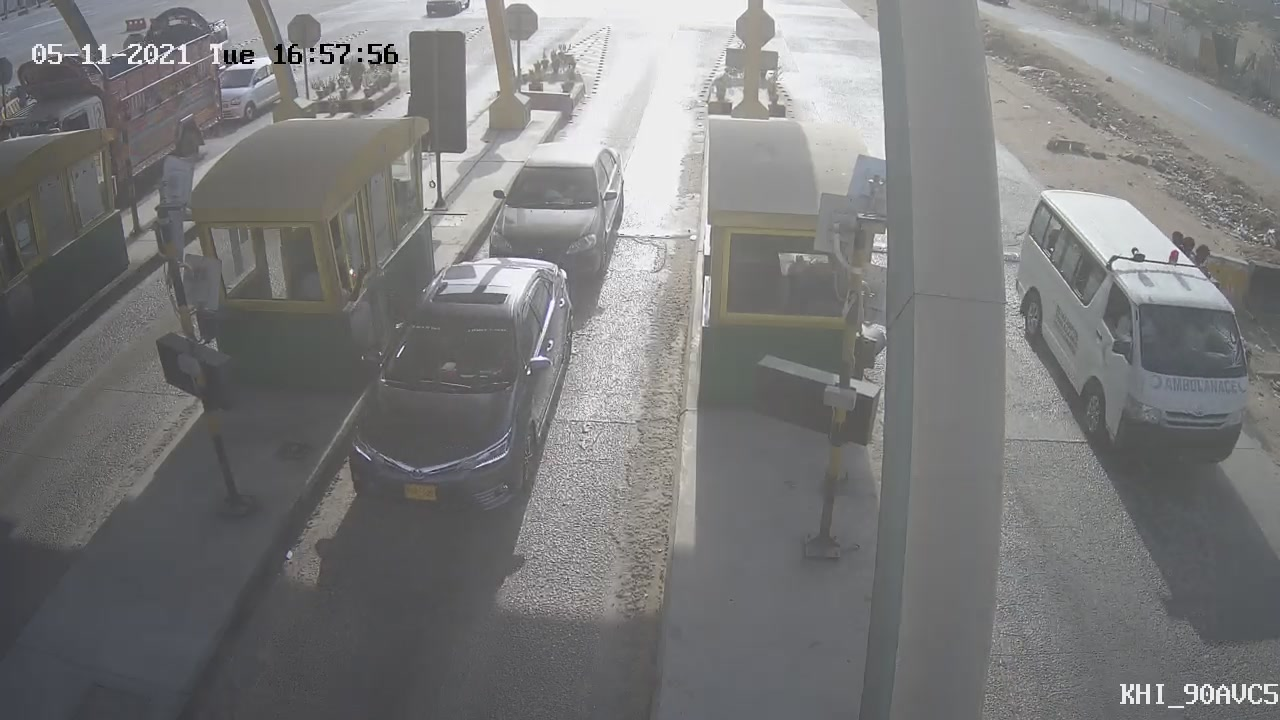F1: (316, 239, 594, 542), (468, 124, 642, 304)
